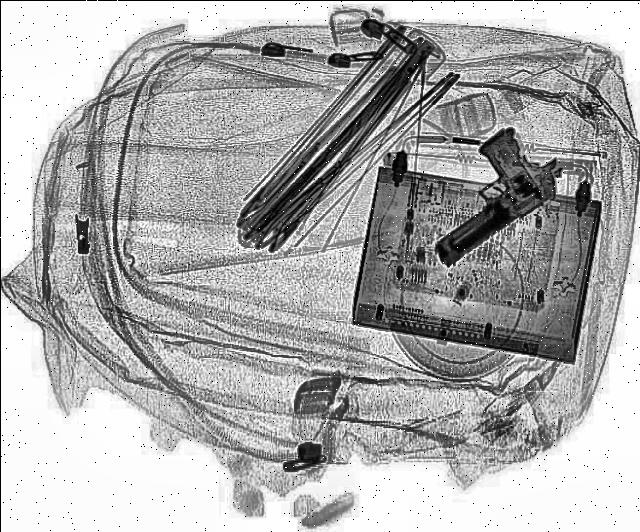Gun: (378, 122, 580, 272)
